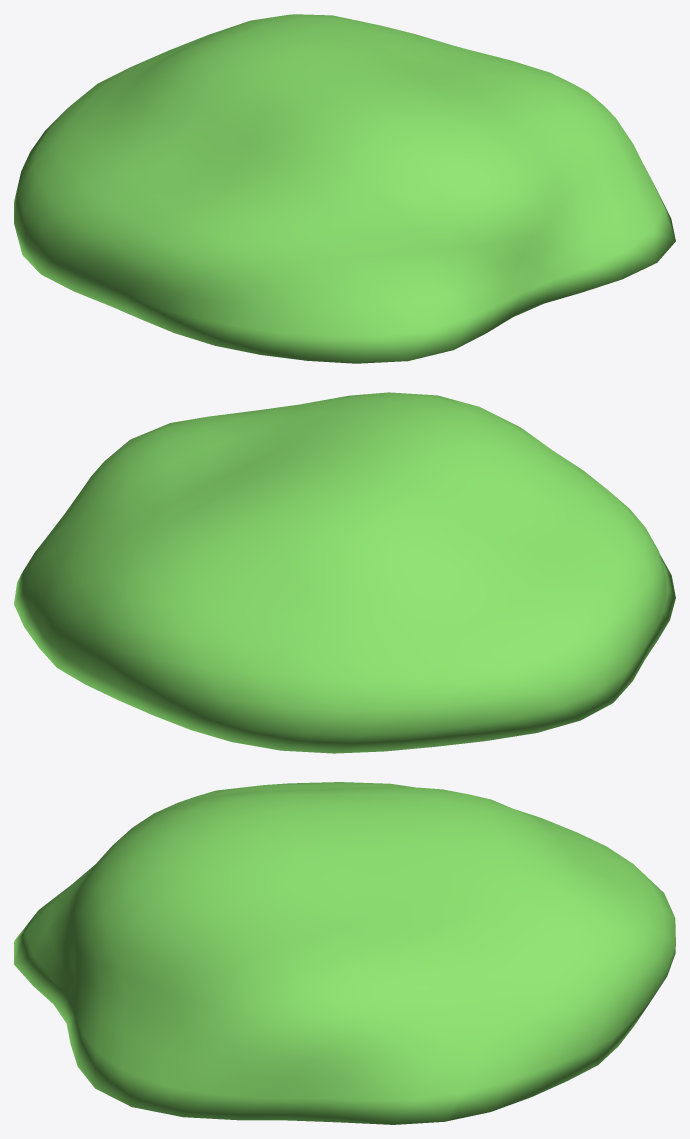
File: hill.fbx
3 views of the same model, one above another, from view 1: azimuth 30°, elevation 25°; view 2: azimuth 150°, elevation 25°; view 3: azimuth 270°, elevation 25° (orthographic). The views are drawn at different scales.
Visible parts, largest first — view 1: Grass_hill; view 2: Grass_hill; view 3: Grass_hill.
Boxes of the visible parts, x1,y1,x2,y2 form: Grass_hill: (14,14,675,363); Grass_hill: (14,392,675,753); Grass_hill: (14,782,675,1124).
Bounding box in the file's own units: 12.27 × 3.38 × 12.26.
